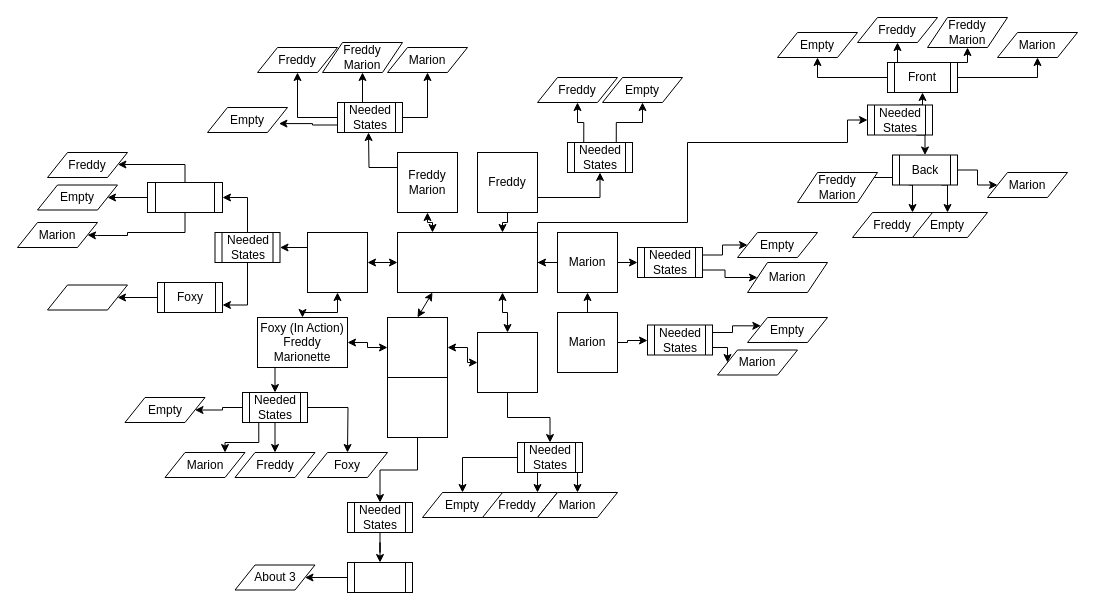
This 1095x610 diagram has some shape labels left out. Each missing label, with the box of its shape:
About 4: (46, 284, 128, 310)
Back Office (Bonnie): (386, 376, 448, 438)
Bonnie: (346, 562, 412, 592)
Freddy (or) Marion: (476, 332, 538, 392)
Freddy (or) Marion Foxy: (306, 232, 368, 292)
Freddy (Pos 1) Freddy (Pos 2) Marion (Pos 1) Marion (Pos 2): (396, 232, 538, 292)
MainRoom: (146, 182, 222, 212)
Office (player): (386, 316, 448, 378)
